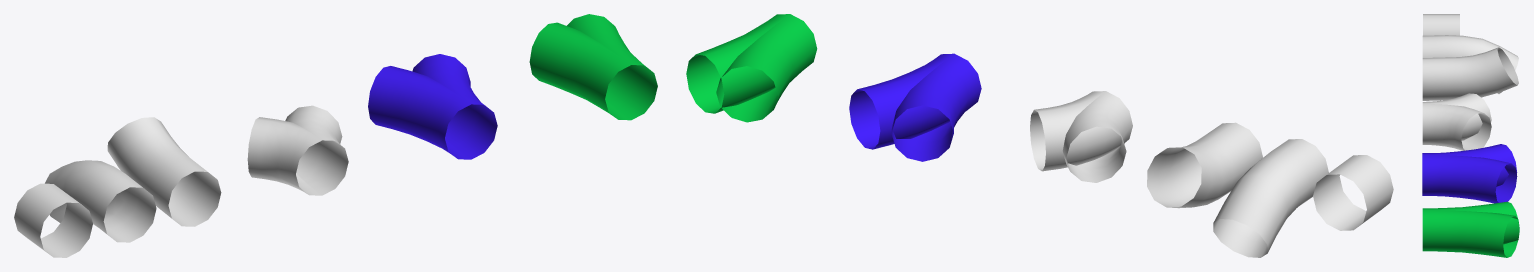
The model's file is VTRailstwoside.FBX.
3 views of the same model, side by side, from view 1: azimuth 30°, elevation 25°; view 2: azimuth 150°, elevation 25°; view 3: azimuth 270°, elevation 25° (orthographic). The views are drawn at different scales.
Visible parts, largest first — view 1: Cylinder002, Cylinder005, Cylinder009, Cylinder010, Cylinder004, Cylinder017, Cylinder019, Cylinder020, Cylinder018; view 2: Cylinder010, Cylinder009, Cylinder019, Cylinder005, Cylinder002, Cylinder020, Cylinder018, Cylinder017, Cylinder004; view 3: Cylinder009, Cylinder019, Cylinder020, Cylinder018, Cylinder010, Cylinder004, Cylinder005, Cylinder002, Cylinder017.
Boxes of the visible parts, x1,y1,x2,y2 form: Cylinder002: [368, 66, 497, 159]; Cylinder005: [529, 22, 657, 119]; Cylinder009: [107, 117, 221, 226]; Cylinder010: [45, 160, 156, 242]; Cylinder004: [247, 117, 348, 195]; Cylinder017: [14, 183, 92, 257]; Cylinder019: [412, 54, 483, 159]; Cylinder020: [567, 14, 643, 120]; Cylinder018: [285, 105, 342, 195]; Cylinder010: [1213, 139, 1328, 257]; Cylinder009: [1147, 122, 1262, 208]; Cylinder019: [849, 53, 954, 149]; Cylinder005: [716, 14, 817, 122]; Cylinder002: [891, 54, 981, 161]; Cylinder020: [686, 14, 789, 113]; Cylinder018: [1030, 91, 1121, 171]; Cylinder017: [1313, 155, 1393, 230]; Cylinder004: [1062, 91, 1132, 182]; Cylinder009: [1422, 47, 1518, 100]; Cylinder019: [1422, 155, 1517, 203]; Cylinder020: [1422, 210, 1519, 257]; Cylinder018: [1422, 104, 1491, 150]; Cylinder010: [1422, 35, 1518, 93]; Cylinder004: [1422, 93, 1491, 140]; Cylinder005: [1422, 201, 1519, 244]; Cylinder002: [1422, 144, 1517, 186]; Cylinder017: [1423, 14, 1459, 35].
Bounding box in the file's own units: 1684 × 233 × 317.
